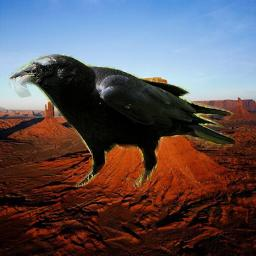Crow: (5, 54, 235, 187)
